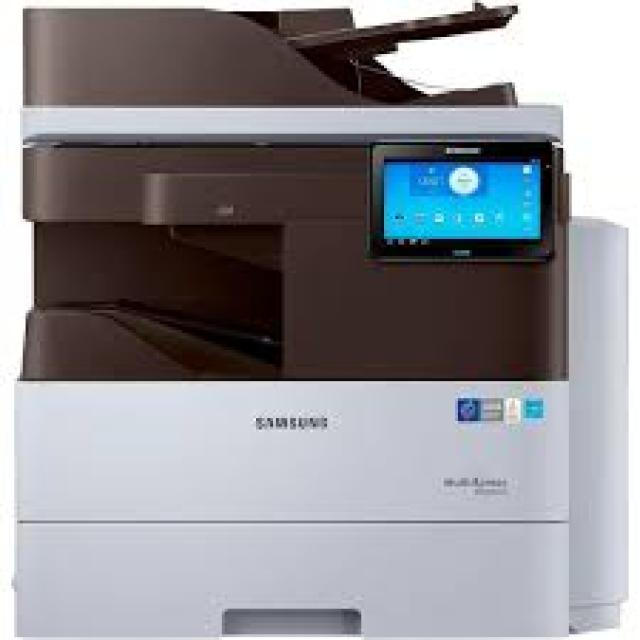printer: (8, 7, 636, 640)
